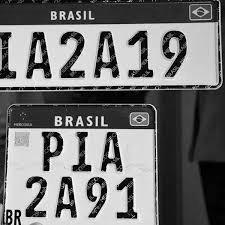placa_mercosul: (1, 2, 222, 92), (4, 105, 157, 224)
